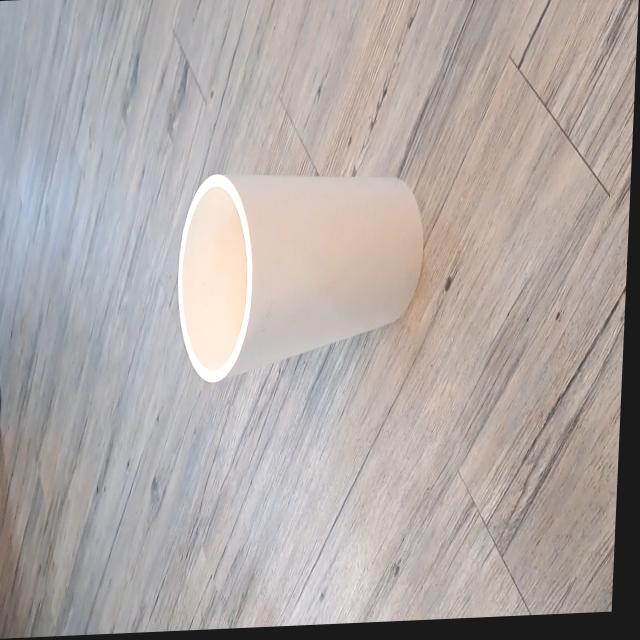CORAL: (161, 126, 438, 410)
